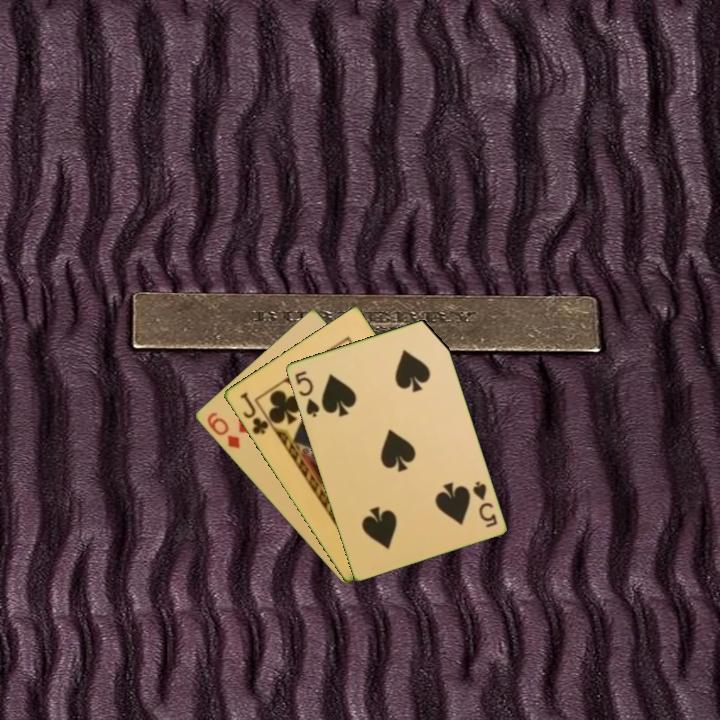5s: (291, 367, 322, 420), (469, 477, 500, 530)
6d: (203, 408, 243, 452)
Jc: (236, 388, 271, 437)
